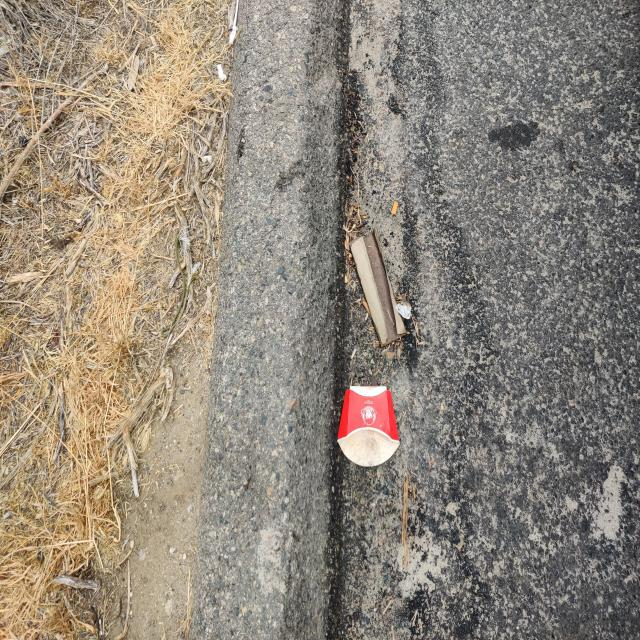litter: (331, 372, 410, 476)
